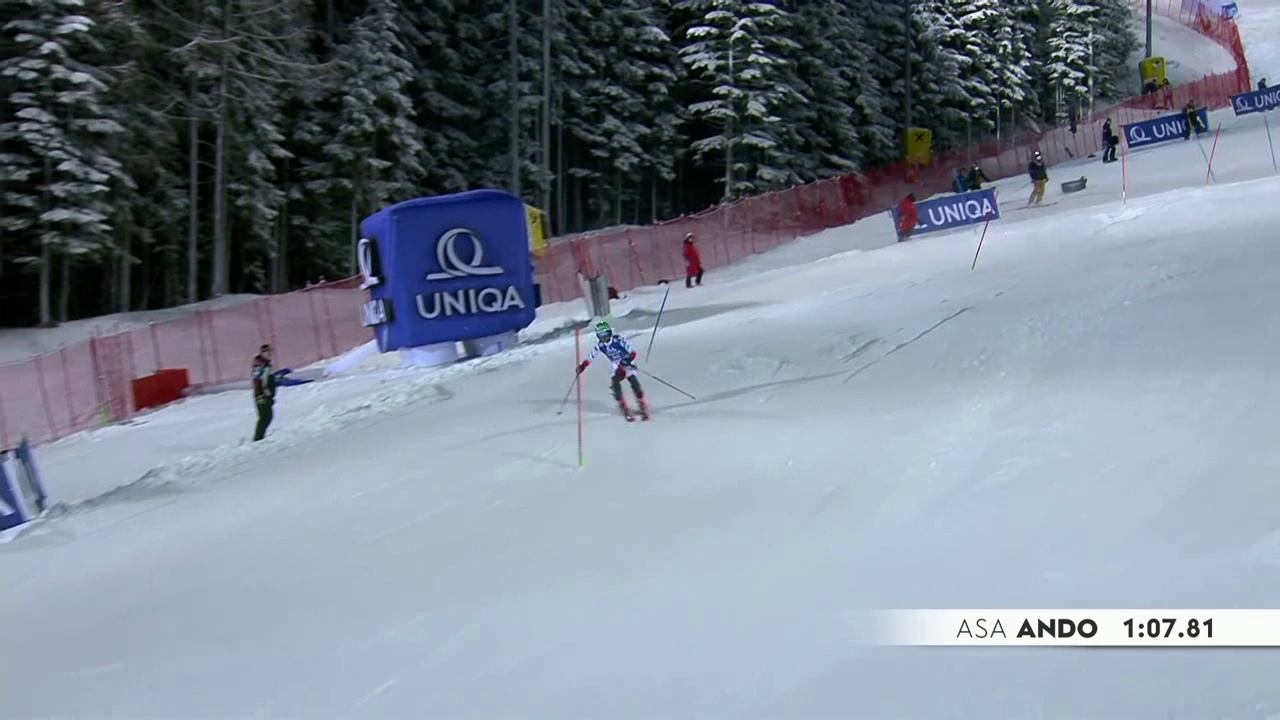uniqa: (403, 218, 530, 330), (916, 194, 995, 233), (1127, 115, 1191, 153)
